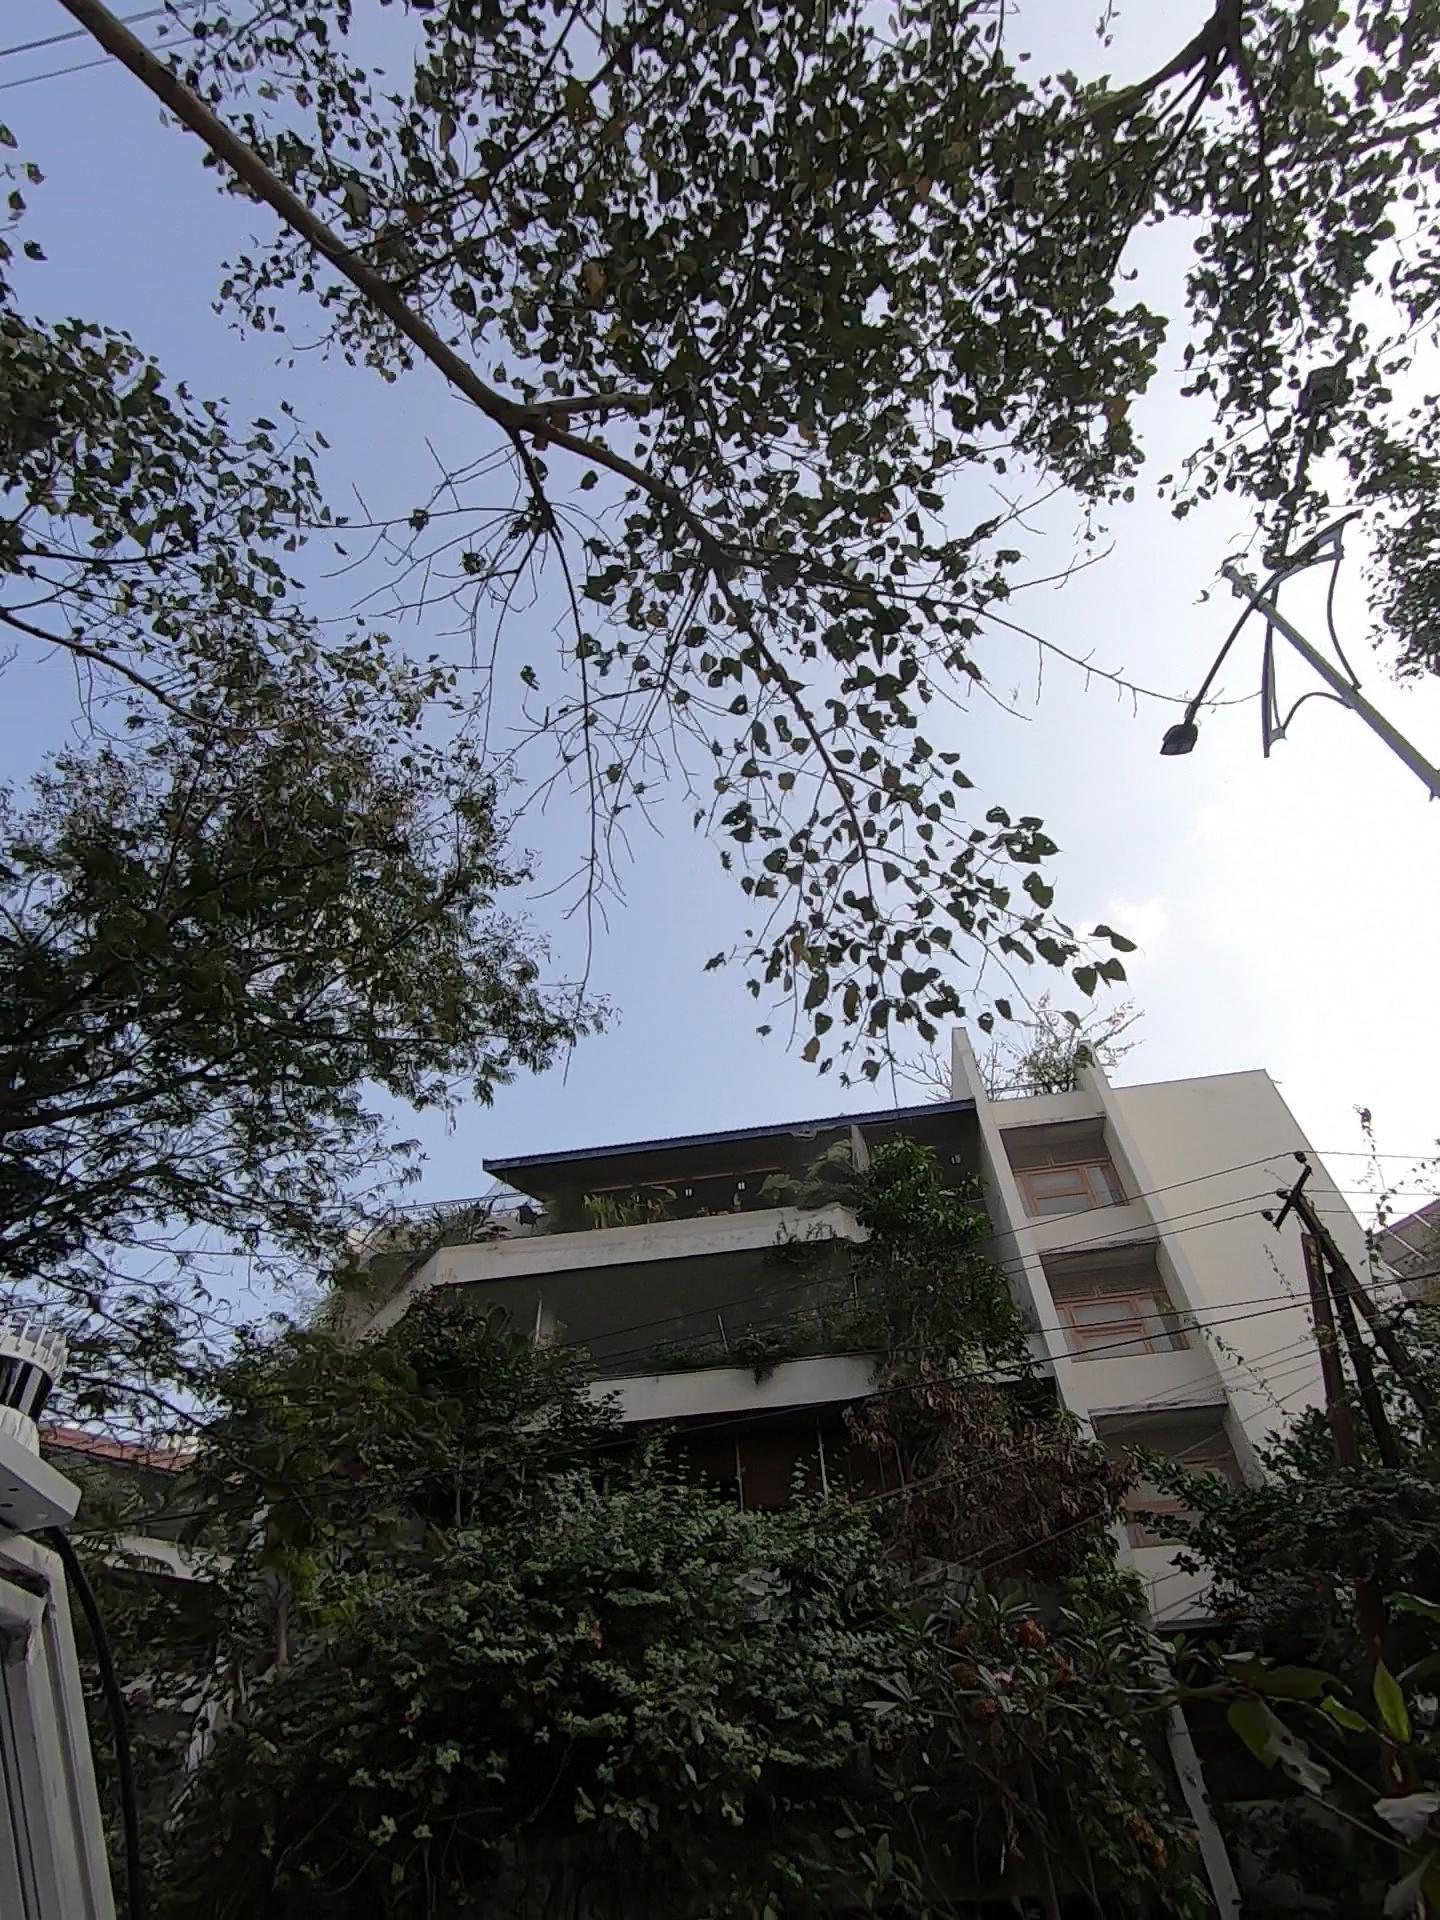off: (1119, 401, 1304, 739)
